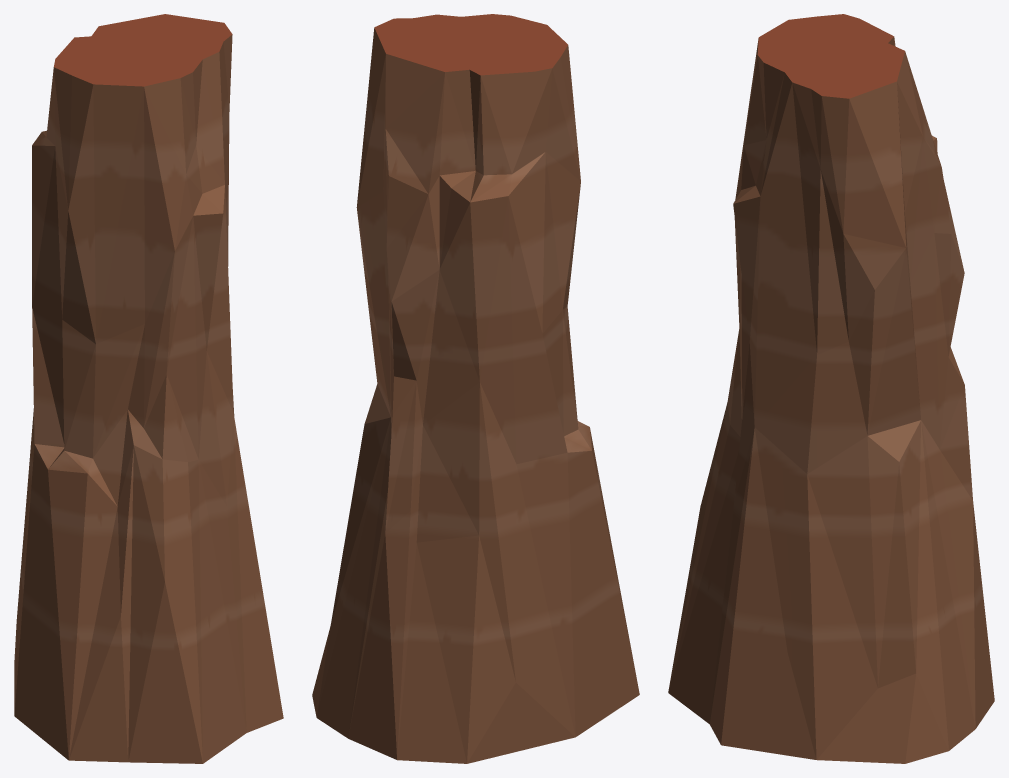
Rendered from SM_Env_Butte_04_Flat.fbx.
The picture shows the model from 3 angles, left to right: view 1: azimuth 30°, elevation 25°; view 2: azimuth 150°, elevation 25°; view 3: azimuth 270°, elevation 25°; orthographic projection.
Visible parts, largest first — view 1: SM_Env_Butte_04; view 2: SM_Env_Butte_04; view 3: SM_Env_Butte_04.
Part boxes in pixels (box(x1,y1,x2,y2)): SM_Env_Butte_04: box(14, 14, 283, 763); SM_Env_Butte_04: box(312, 14, 639, 763); SM_Env_Butte_04: box(668, 14, 994, 763).
Size of the model in its own units: 470 by 1199 by 547.
